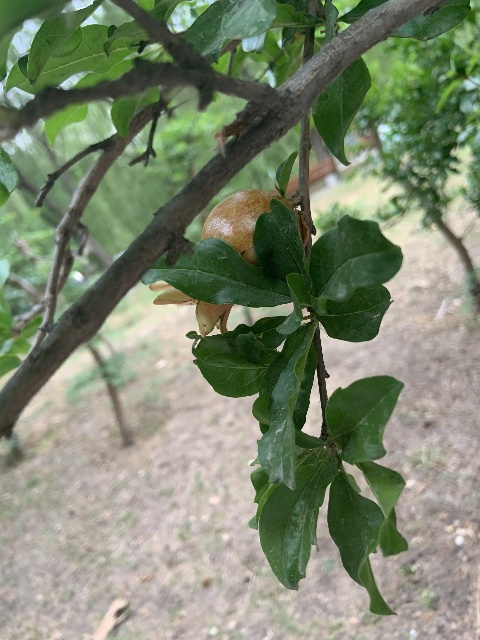early-fruit: (146, 188, 294, 337)
